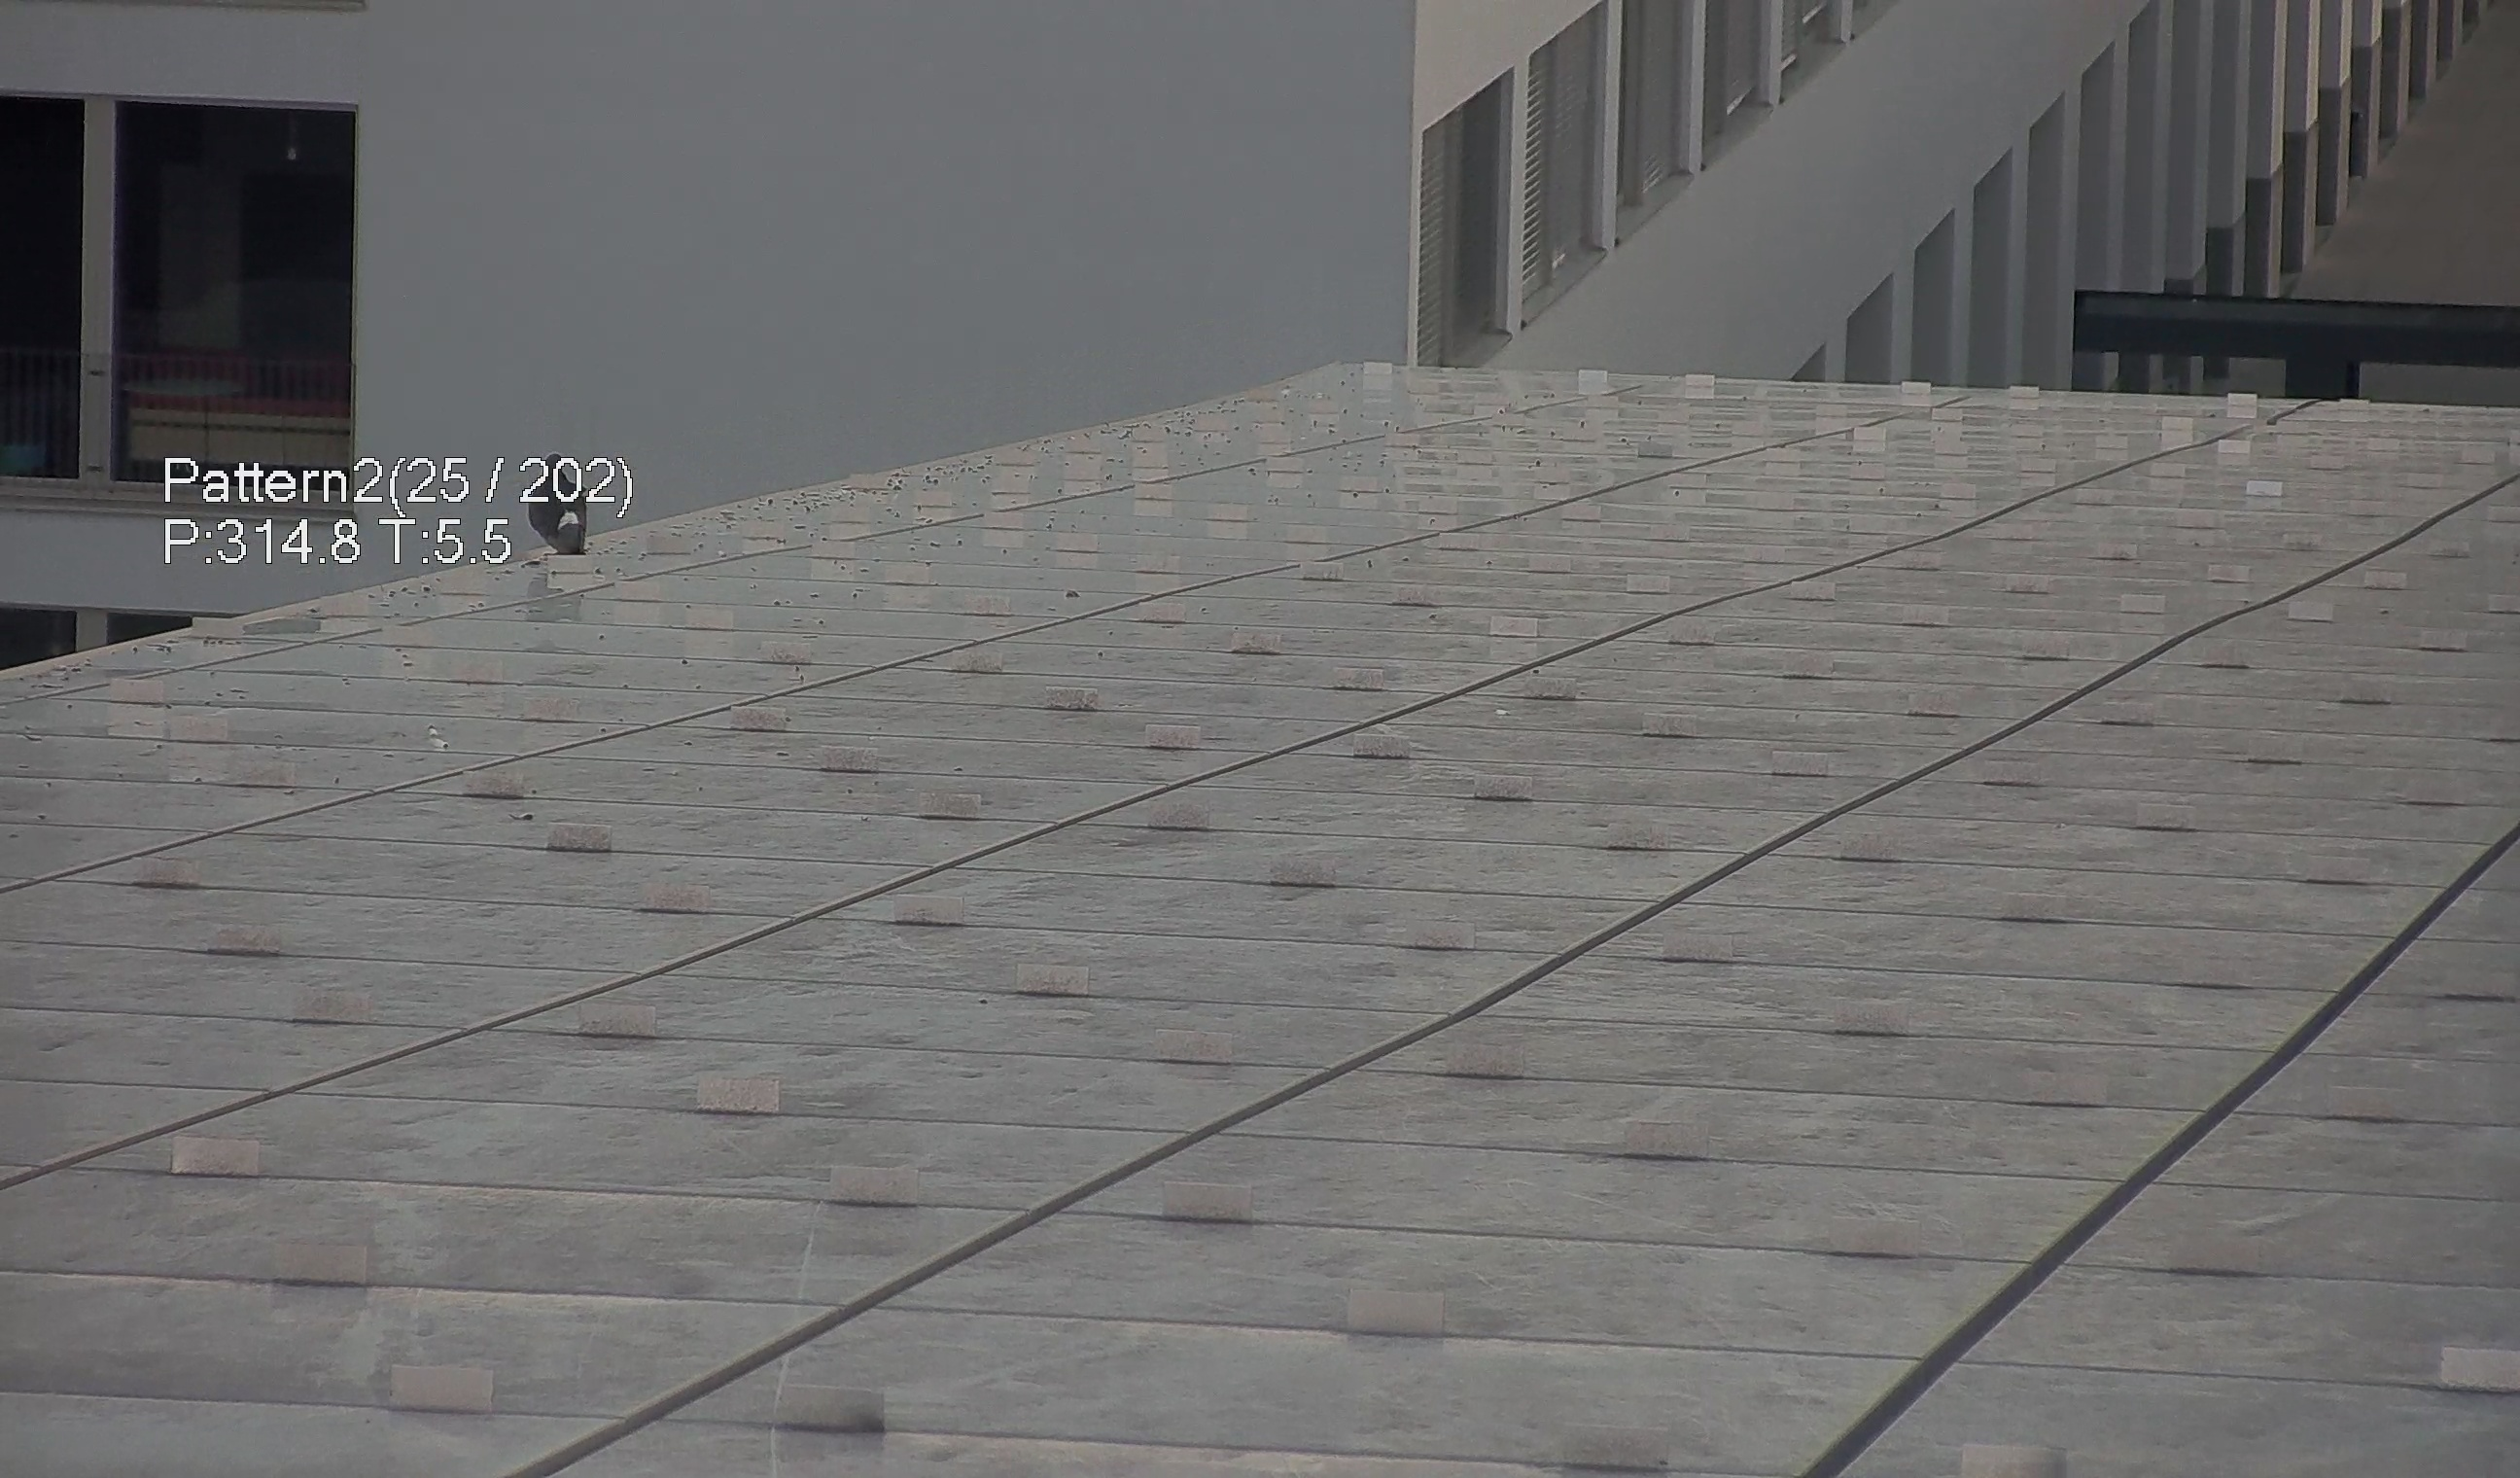Pigeon: (498, 447, 624, 563)
